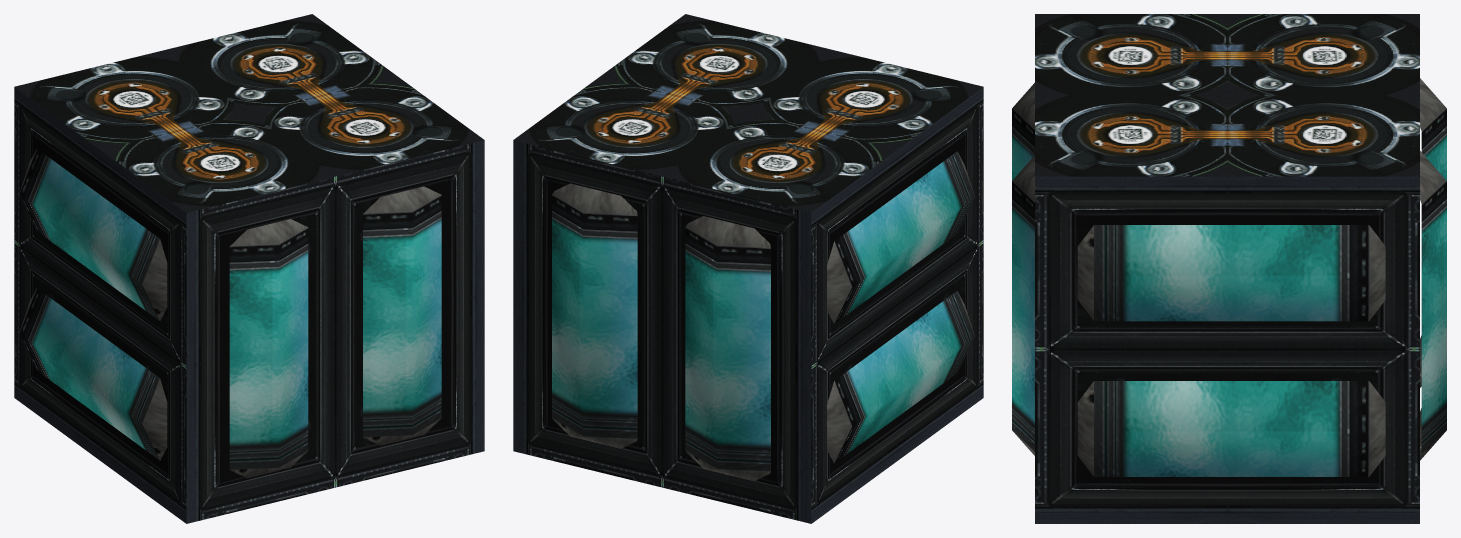
Rendered from Battery_medium_02.FBX.
3 renders of one model, left to right at view 1: azimuth 30°, elevation 25°; view 2: azimuth 150°, elevation 25°; view 3: azimuth 270°, elevation 25°, orthographic. The views are drawn at different scales.
Parts seen in each view (by area): view 1: Battery_medium_02; view 2: Battery_medium_02; view 3: Battery_medium_02.
Part boxes in pixels (x1=…): Battery_medium_02: x1=14, y1=14, x2=484, y2=523; Battery_medium_02: x1=513, y1=14, x2=983, y2=523; Battery_medium_02: x1=1012, y1=14, x2=1446, y2=523.
Size of the model in its own units: 160 by 142 by 161.
